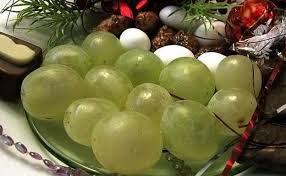Green grapes: (25, 31, 241, 164)
